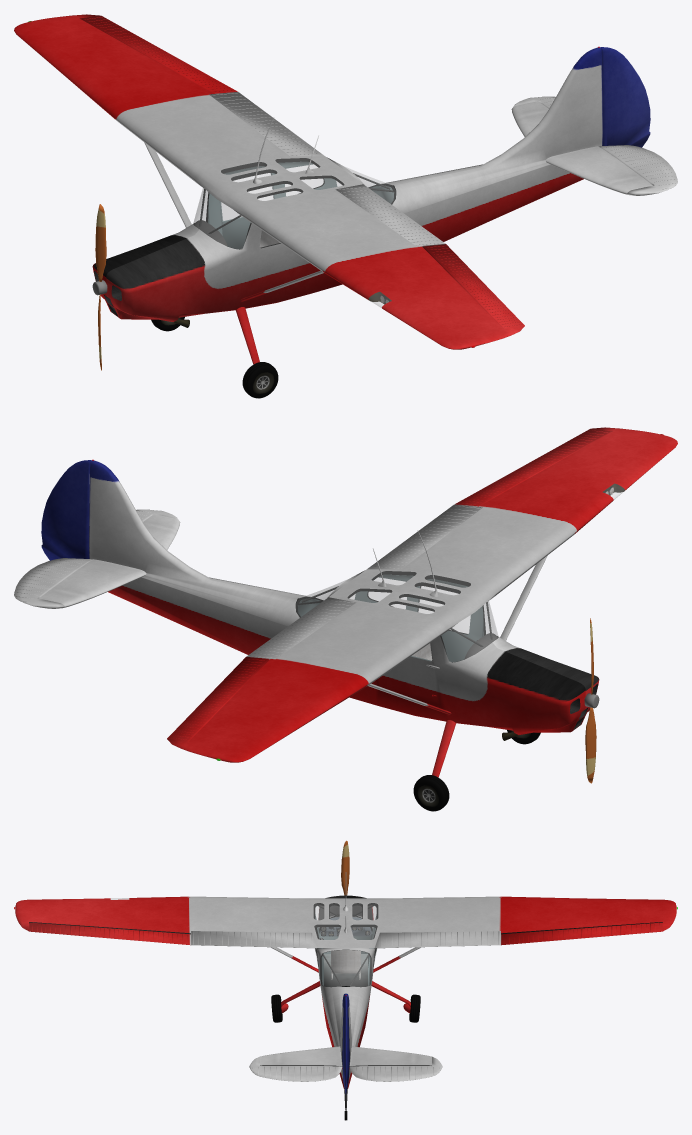
3 renders of one model, top to bottom at view 1: azimuth 30°, elevation 25°; view 2: azimuth 150°, elevation 25°; view 3: azimuth 270°, elevation 25°, orthographic. The views are drawn at different scales.
Parts seen in each view (by area): view 1: Object_25, Object_27, Object_26, Object_31, Object_20, Object_9, Object_8; view 2: Object_25, Object_27, Object_26, Object_31, Object_20, Object_8; view 3: Object_25, Object_27, Object_26, Object_31, Object_20, Object_8, Object_4.
Part boxes in pixels (x1,y1,x2,y2): Object_25: [14, 14, 652, 370]; Object_27: [80, 15, 677, 328]; Object_26: [92, 92, 445, 327]; Object_31: [193, 158, 395, 307]; Object_20: [193, 158, 396, 249]; Object_9: [242, 362, 278, 398]; Object_8: [151, 307, 259, 364]; Object_25: [39, 427, 677, 783]; Object_27: [14, 428, 611, 741]; Object_26: [246, 486, 613, 740]; Object_31: [296, 484, 624, 662]; Object_20: [295, 571, 498, 662]; Object_8: [413, 720, 456, 811]; Object_25: [15, 840, 676, 1094]; Object_27: [29, 872, 662, 1081]; Object_26: [191, 931, 500, 972]; Object_31: [110, 898, 377, 986]; Object_20: [313, 903, 378, 987]; Object_8: [281, 981, 420, 1120]; Object_4: [331, 938, 360, 979].
Size of the model in its own units: 7.84 by 3.13 by 10.87.
26 materials, 22 textured.
